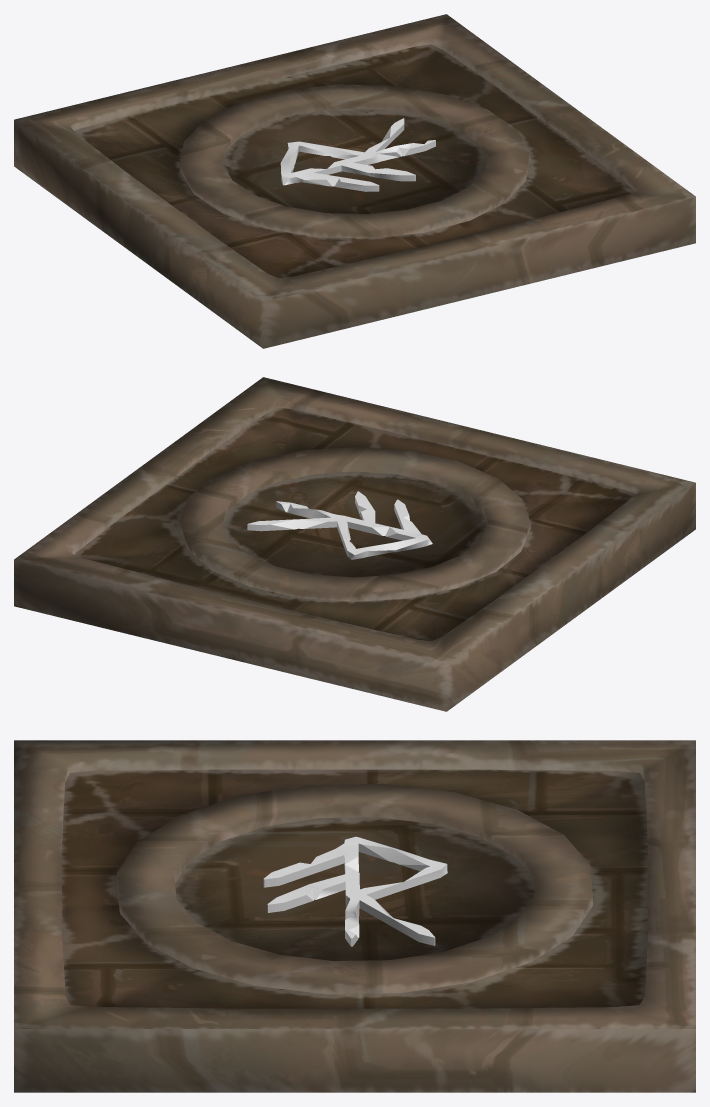
The model's file is baldosa p.fbx.
The picture shows the model from 3 angles, top to bottom: view 1: azimuth 30°, elevation 25°; view 2: azimuth 150°, elevation 25°; view 3: azimuth 270°, elevation 25°; orthographic projection. The views are drawn at different scales.
Visible parts, largest first — view 1: baldosa low.005, runa p.001; view 2: baldosa low.005, runa p.001; view 3: baldosa low.005, runa p.001.
Part boxes in pixels (bbox=[...]): baldosa low.005: bbox=[14, 14, 695, 348]; runa p.001: bbox=[280, 118, 435, 191]; baldosa low.005: bbox=[14, 377, 695, 711]; runa p.001: bbox=[247, 491, 432, 559]; baldosa low.005: bbox=[14, 740, 695, 1092]; runa p.001: bbox=[263, 836, 447, 946].
Bounding box in the file's own units: 45.2 × 4.88 × 45.12.
Materials: 1 (1 with a texture image).
